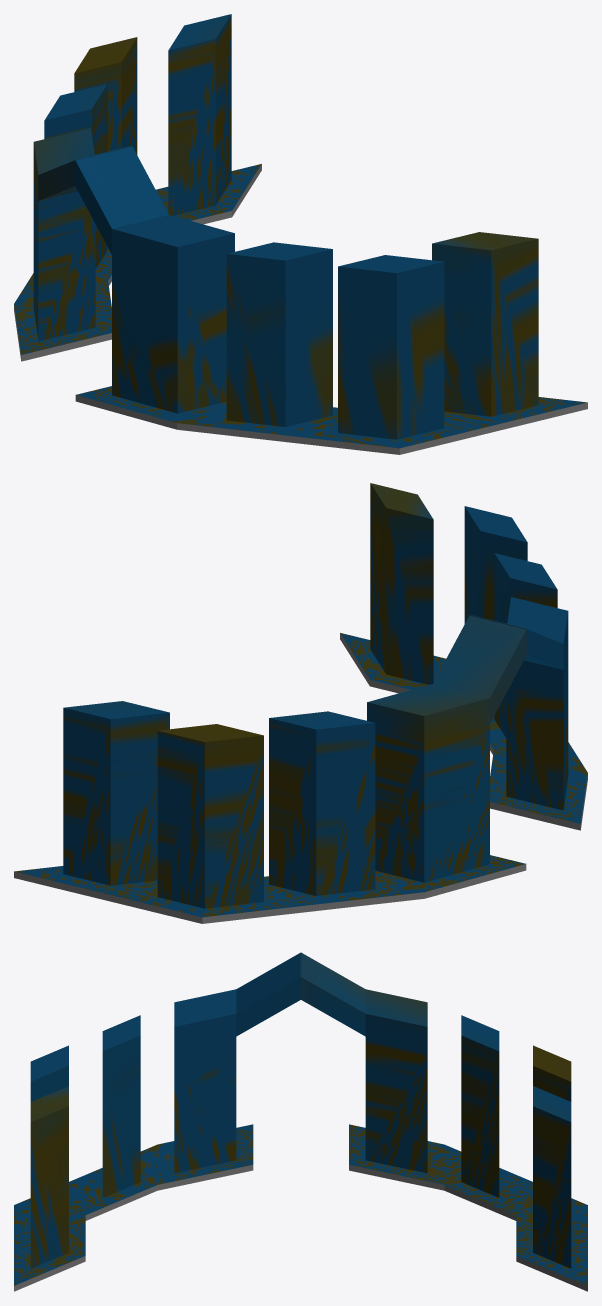
Rendered from Stoa.fbx.
3 renders of one model, top to bottom at view 1: azimuth 30°, elevation 25°; view 2: azimuth 150°, elevation 25°; view 3: azimuth 270°, elevation 25°, orthographic. The views are drawn at different scales.
Parts seen in each view (by area): view 1: Plane.002; view 2: Plane.002; view 3: Plane.002.
Part boxes in pixels (x1=…): Plane.002: x1=14, y1=14, x2=587, y2=454; Plane.002: x1=14, y1=483, x2=587, y2=923; Plane.002: x1=14, y1=952, x2=587, y2=1291.
Bounding box in the file's own units: 800 × 437 × 1200.
2 materials, 1 textured.
